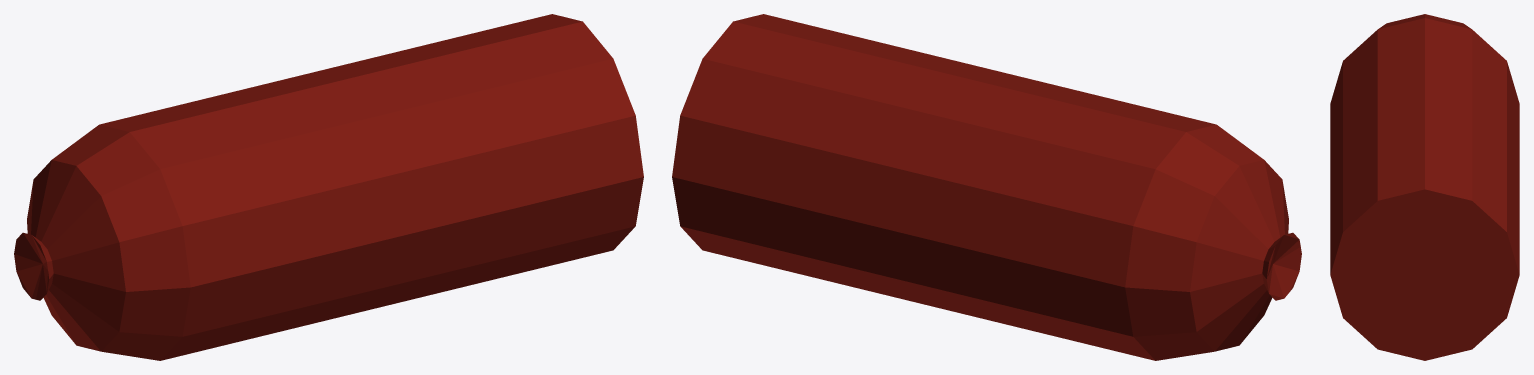
The model's file is salami_sliced.fbx.
The picture shows the model from 3 angles, left to right: view 1: azimuth 30°, elevation 25°; view 2: azimuth 150°, elevation 25°; view 3: azimuth 270°, elevation 25°; orthographic projection. The views are drawn at different scales.
Visible parts, largest first — view 1: Cylinder006; view 2: Cylinder006; view 3: Cylinder006.
Part boxes in pixels (x1,y1,x2,y2): Cylinder006: (14,14,643,360); Cylinder006: (672,14,1301,360); Cylinder006: (1330,14,1519,360).
Bounding box in the file's own units: 26.06 × 10 × 10.
